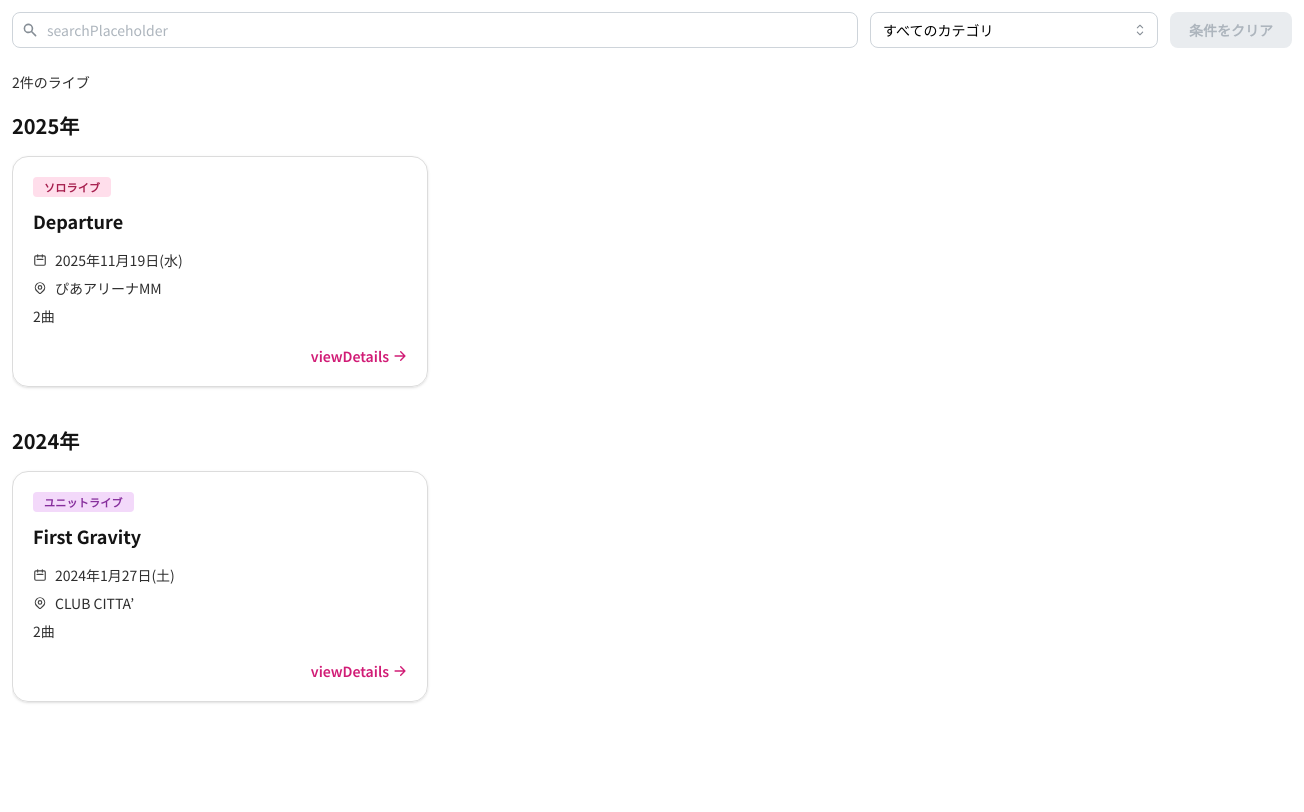
LivesClient › カテゴリ選択をURLへ反映し、対象カテゴリだけ表示する
Click the dropdown named "ライブカテゴリ" at [1014, 30], box [870, 12, 1158, 48]
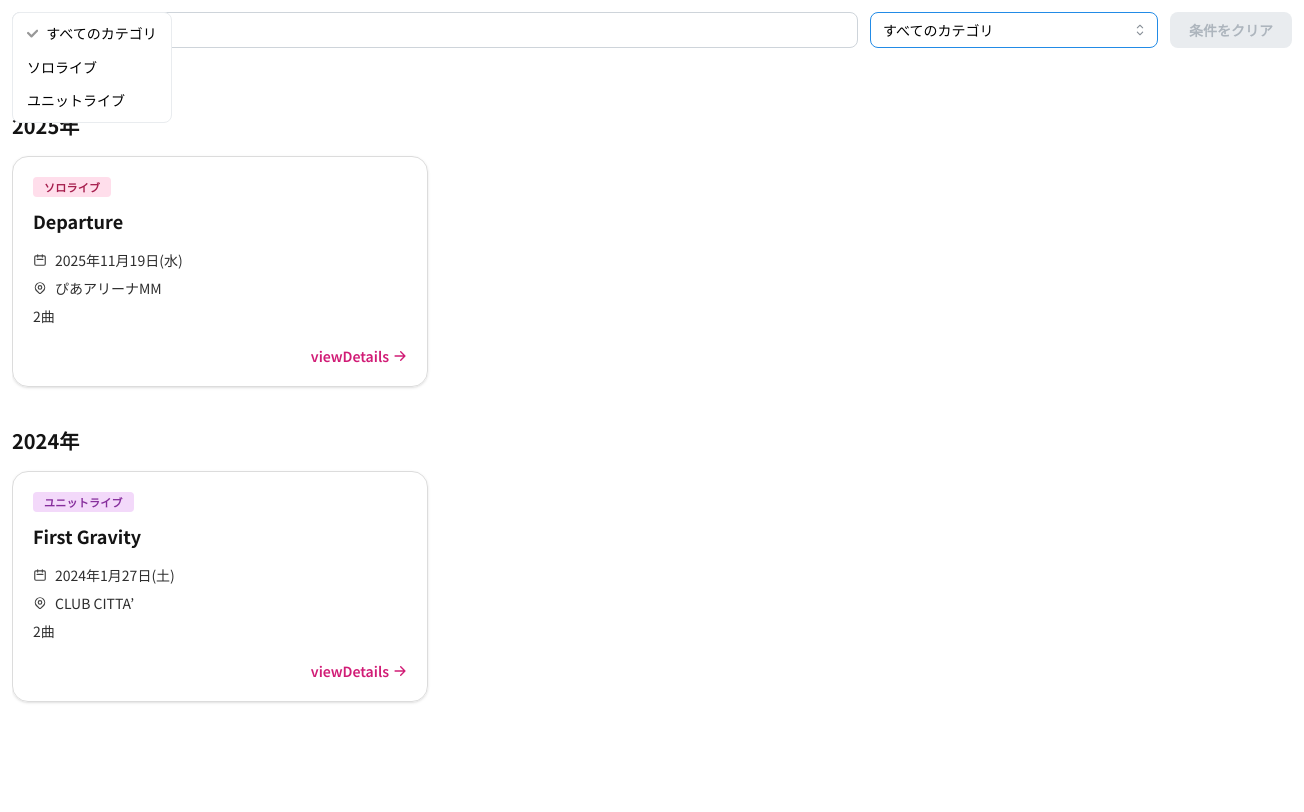
Click the option "ユニットライブ" at [76, 100], box [27, 90, 125, 110]
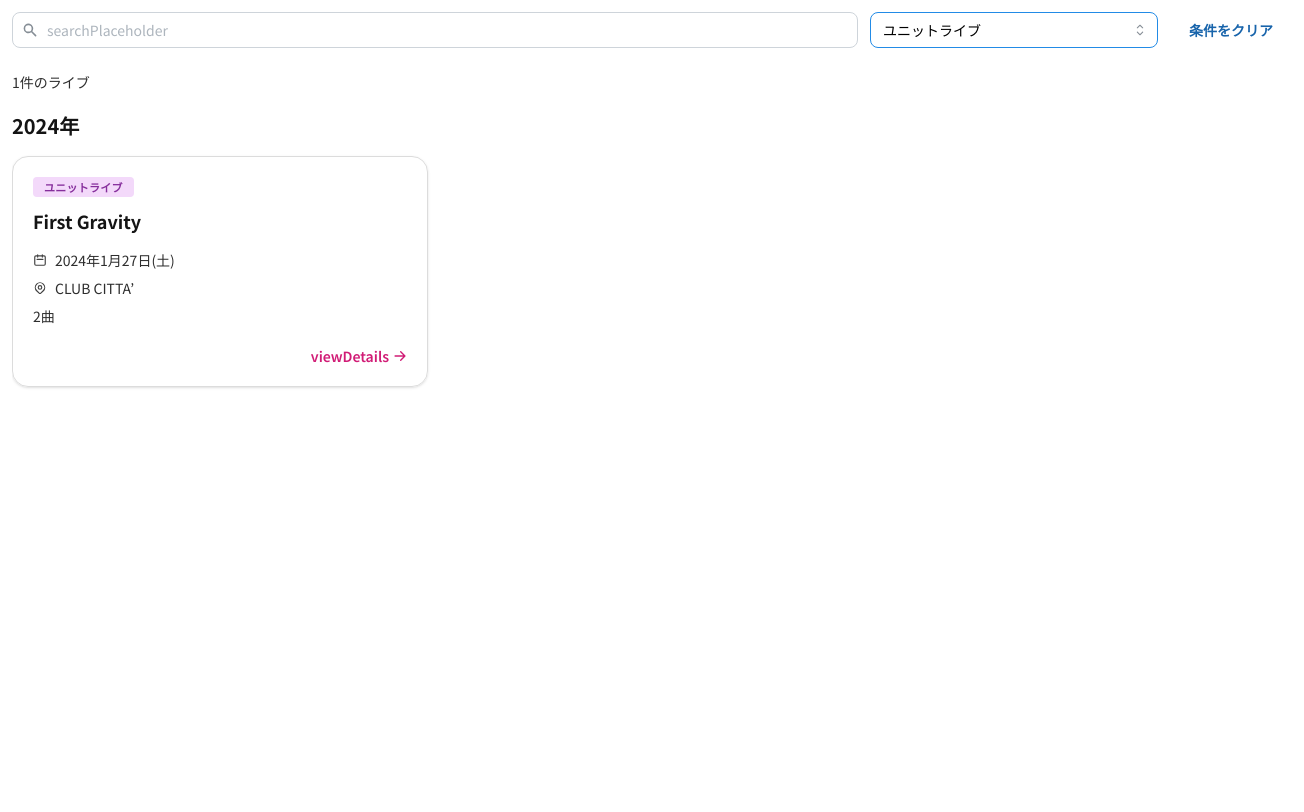
Check: the heading "First Gravity" is shown, box [33, 208, 141, 234]
Check: the heading "Departure" is gone
